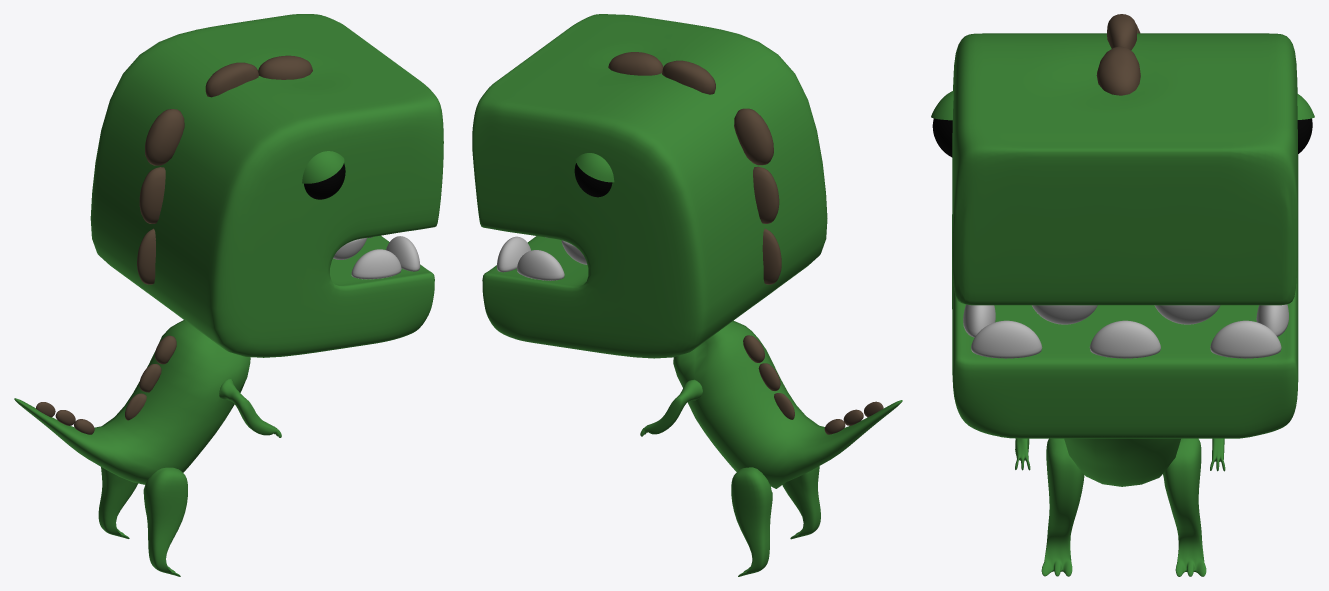
File: BlocossauroTempColor.fbx
The picture shows the model from 3 angles, left to right: view 1: azimuth 30°, elevation 25°; view 2: azimuth 150°, elevation 25°; view 3: azimuth 270°, elevation 25°; orthographic projection. The views are drawn at different scales.
Parts seen in each view (by area): view 1: Blocosauro; view 2: Blocosauro; view 3: Blocosauro.
Boxes of the visible parts, box(x1,y1,x2,y2) form: Blocosauro: box(14, 14, 443, 576); Blocosauro: box(472, 14, 902, 576); Blocosauro: box(931, 14, 1314, 576).
Size of the model in its own units: 331 by 402 by 229.
